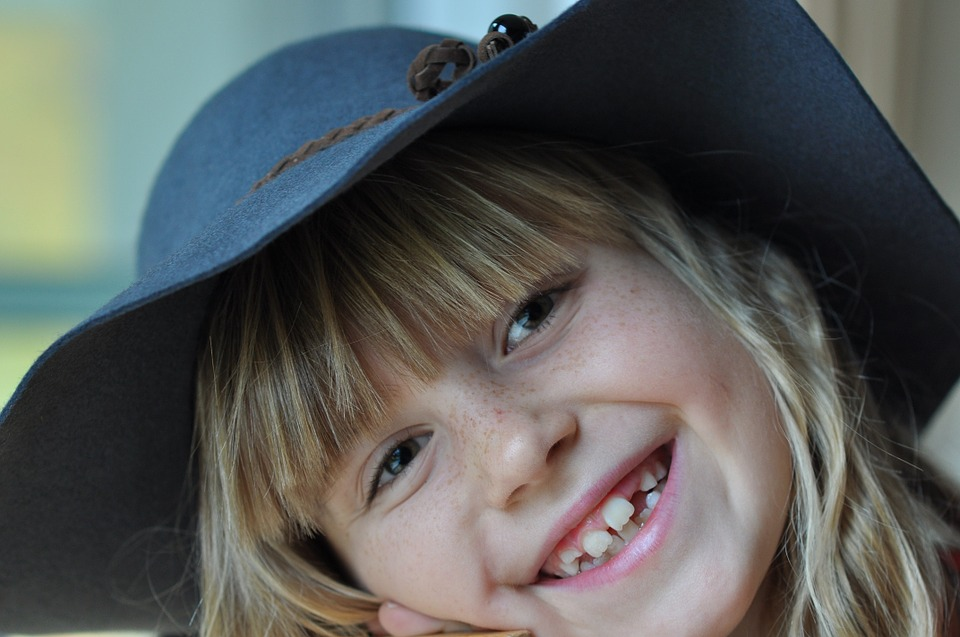happy: (302, 266, 796, 637)
